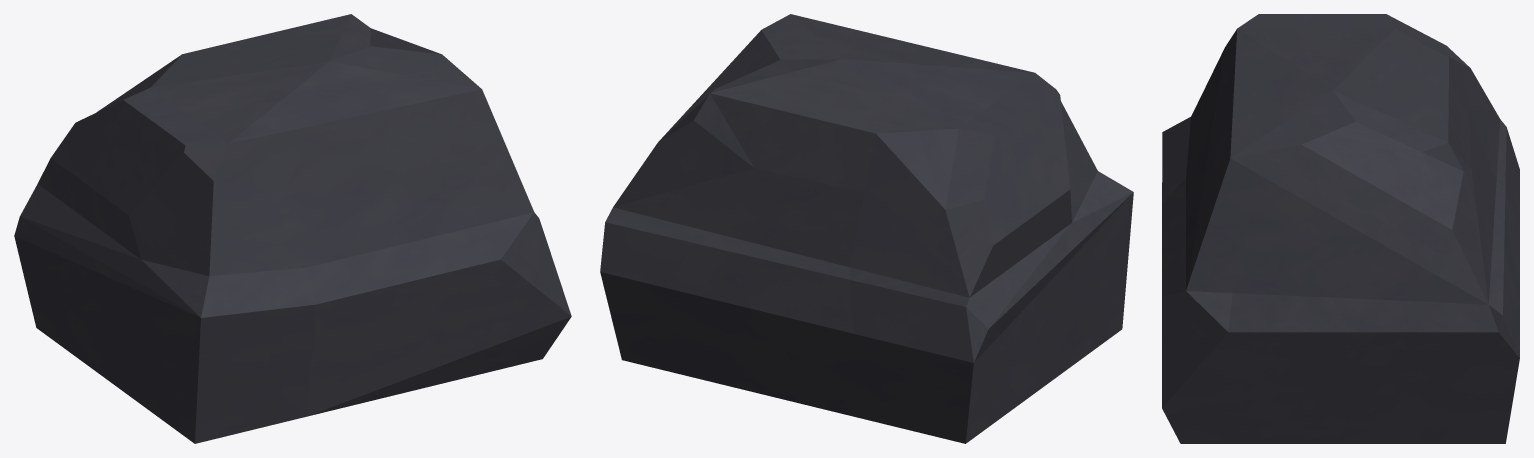
The model's file is rock 2.fbx.
The picture shows the model from 3 angles, left to right: view 1: azimuth 30°, elevation 25°; view 2: azimuth 150°, elevation 25°; view 3: azimuth 270°, elevation 25°; orthographic projection. The views are drawn at different scales.
Parts seen in each view (by area): view 1: Cube.001; view 2: Cube.001; view 3: Cube.001.
Part boxes in pixels (bbox=[...]): Cube.001: bbox=[14, 14, 571, 443]; Cube.001: bbox=[600, 14, 1133, 443]; Cube.001: bbox=[1162, 14, 1519, 443].
Bounding box in the file's own units: 412 × 281 × 321.
